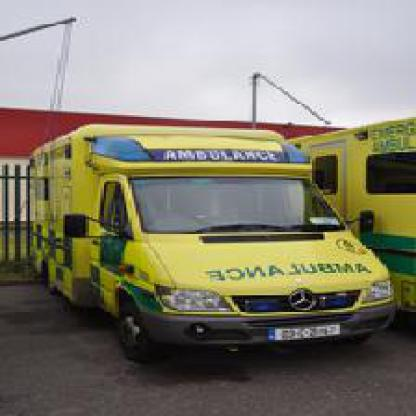emergency: (15, 121, 399, 386)
